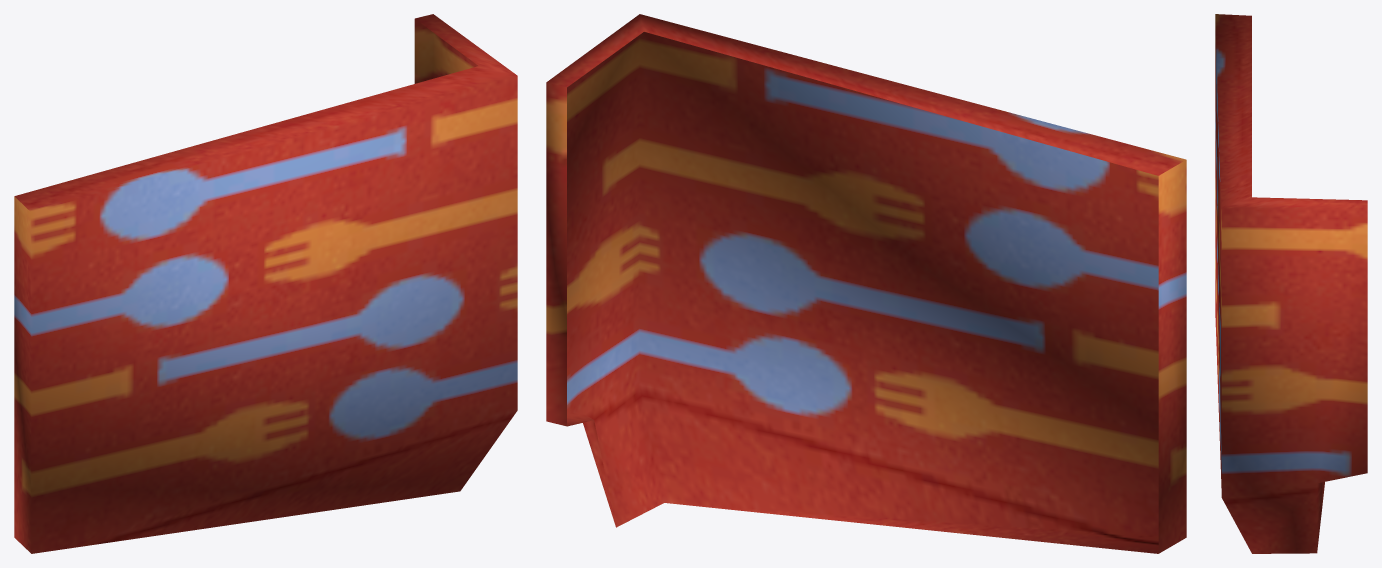
Rendered from nt_2020_towel_kitchen_01_LOD2.obj.
3 views of the same model, side by side, from view 1: azimuth 30°, elevation 25°; view 2: azimuth 150°, elevation 25°; view 3: azimuth 270°, elevation 25° (orthographic). The views are drawn at different scales.
Parts seen in each view (by area): view 1: mtl_nt_2020_towel_kitchen_01; view 2: mtl_nt_2020_towel_kitchen_01; view 3: mtl_nt_2020_towel_kitchen_01.
Boxes of the visible parts, x1,y1,x2,y2 form: mtl_nt_2020_towel_kitchen_01: (14, 14, 517, 553); mtl_nt_2020_towel_kitchen_01: (546, 14, 1186, 553); mtl_nt_2020_towel_kitchen_01: (1215, 14, 1367, 553).
Size of the model in its own units: 76.95 by 63.16 by 23.97.
